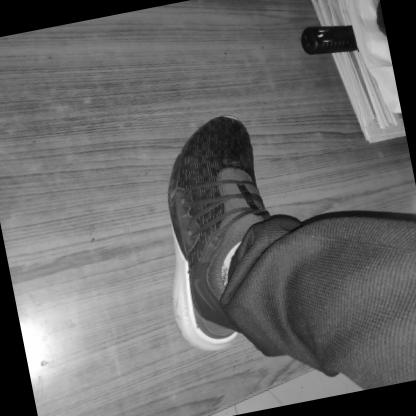ankle: (216, 264, 224, 277)
heel: (221, 341, 227, 347)
left_foot: (137, 112, 291, 359)
pinky: (198, 135, 206, 140)
toe: (245, 137, 249, 141)
